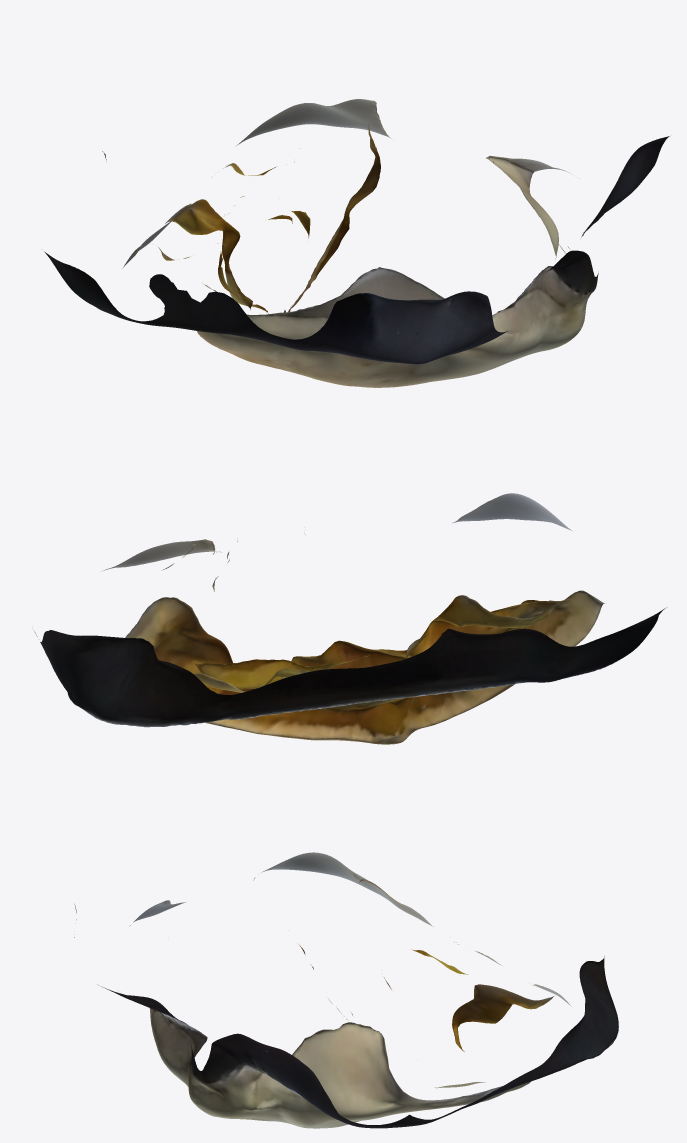
The picture shows the model from 3 angles, top to bottom: view 1: azimuth 30°, elevation 25°; view 2: azimuth 150°, elevation 25°; view 3: azimuth 270°, elevation 25°; orthographic projection. The views are drawn at different scales.
Visible parts, largest first — view 1: 3DModel; view 2: 3DModel; view 3: 3DModel.
Part boxes in pixels (box(x1,y1,x2,y2)): 3DModel: box(44, 99, 669, 387); 3DModel: box(34, 493, 666, 744); 3DModel: box(74, 852, 618, 1128).
Size of the model in its own units: 0.7648 by 0.2243 by 0.799.
1 material, 1 textured.
